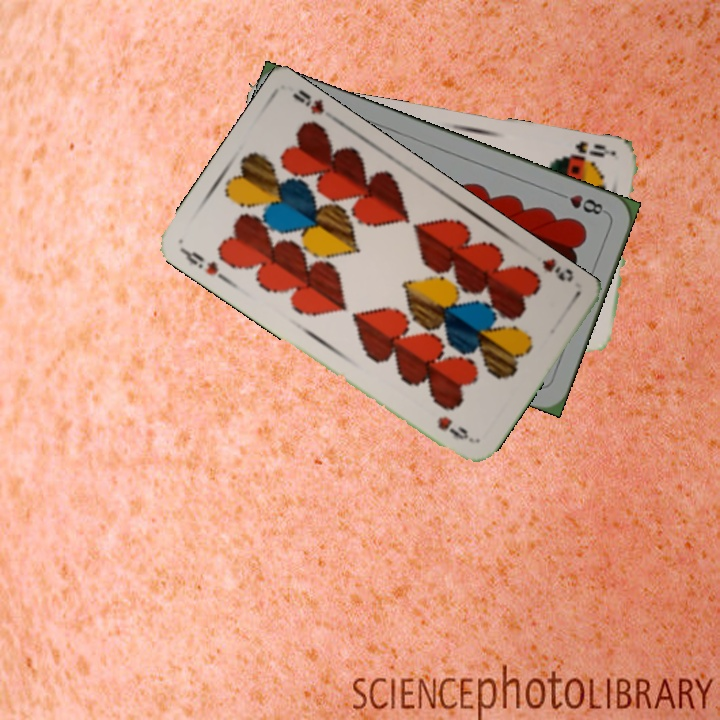H8: (552, 188, 609, 218)
H9: (178, 245, 221, 278), (538, 255, 577, 285)
SO: (556, 137, 617, 167)
